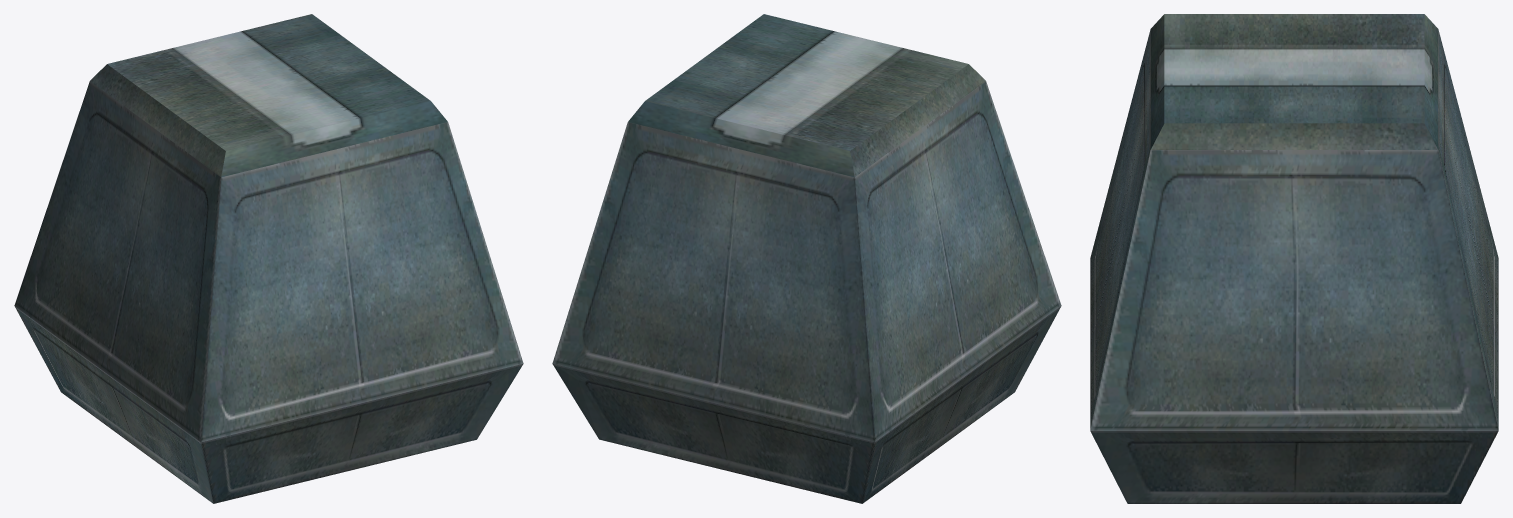
File: con_gen_crate_basic_s4_l1.fbx
The picture shows the model from 3 angles, left to right: view 1: azimuth 30°, elevation 25°; view 2: azimuth 150°, elevation 25°; view 3: azimuth 270°, elevation 25°; orthographic projection. The views are drawn at different scales.
Parts seen in each view (by area): view 1: mesh_node; view 2: mesh_node; view 3: mesh_node.
Part boxes in pixels (x1,y1,x2,y2): mesh_node: (14, 14, 523, 503); mesh_node: (552, 14, 1061, 503); mesh_node: (1090, 14, 1498, 503).
Bounding box in the file's own units: 0.6988 × 0.6905 × 0.7007.
1 material, 1 textured.
